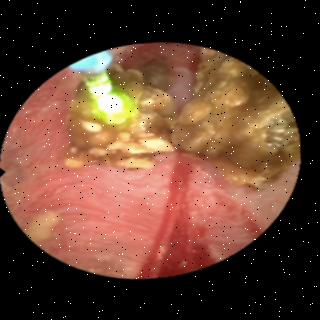laser: (94, 92, 134, 123), (86, 76, 112, 96)
stone: (67, 53, 298, 189), (27, 212, 60, 240)
tissue: (4, 73, 291, 275)
